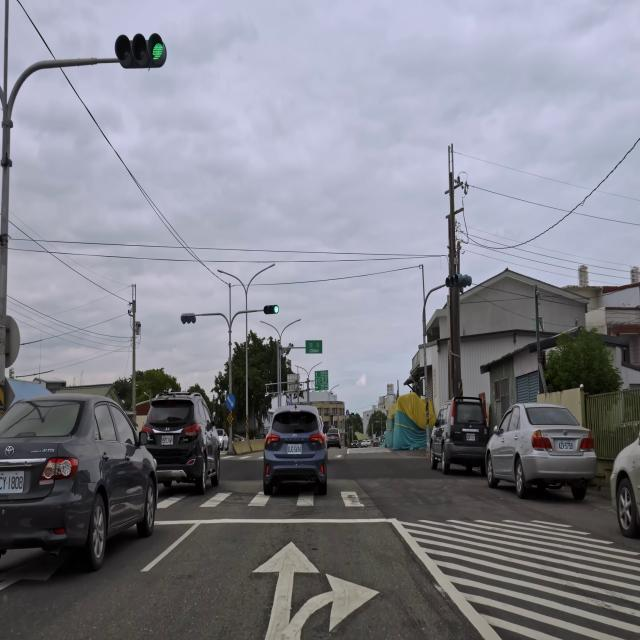green light: (113, 32, 168, 69), (263, 304, 280, 314)
